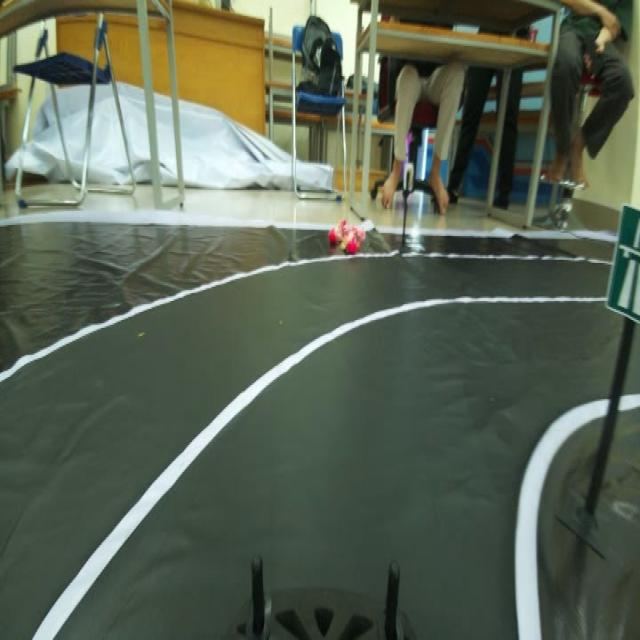highway_entry: (600, 196, 640, 330)
